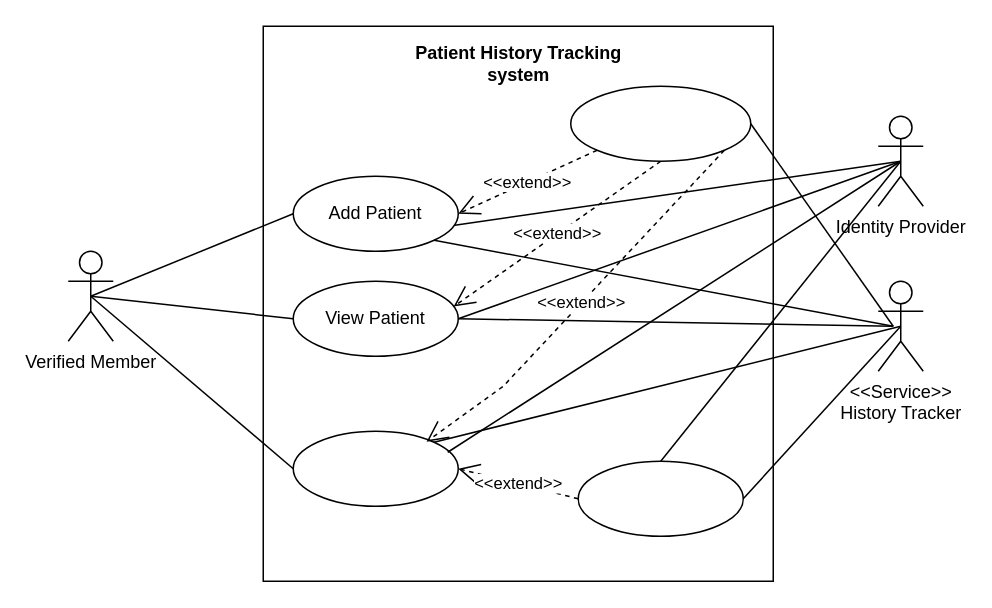
Image size: 992x608. Some labels were removed from this diagram. The shapes that lost their labels are listed below. From the top down, each one's box as (x1, y1, x2, y2) in pixels, then its label:
(569, 85, 751, 161): Display Error
(292, 430, 458, 506): Add Diagnosis
(577, 460, 743, 536): Add Helper Points
